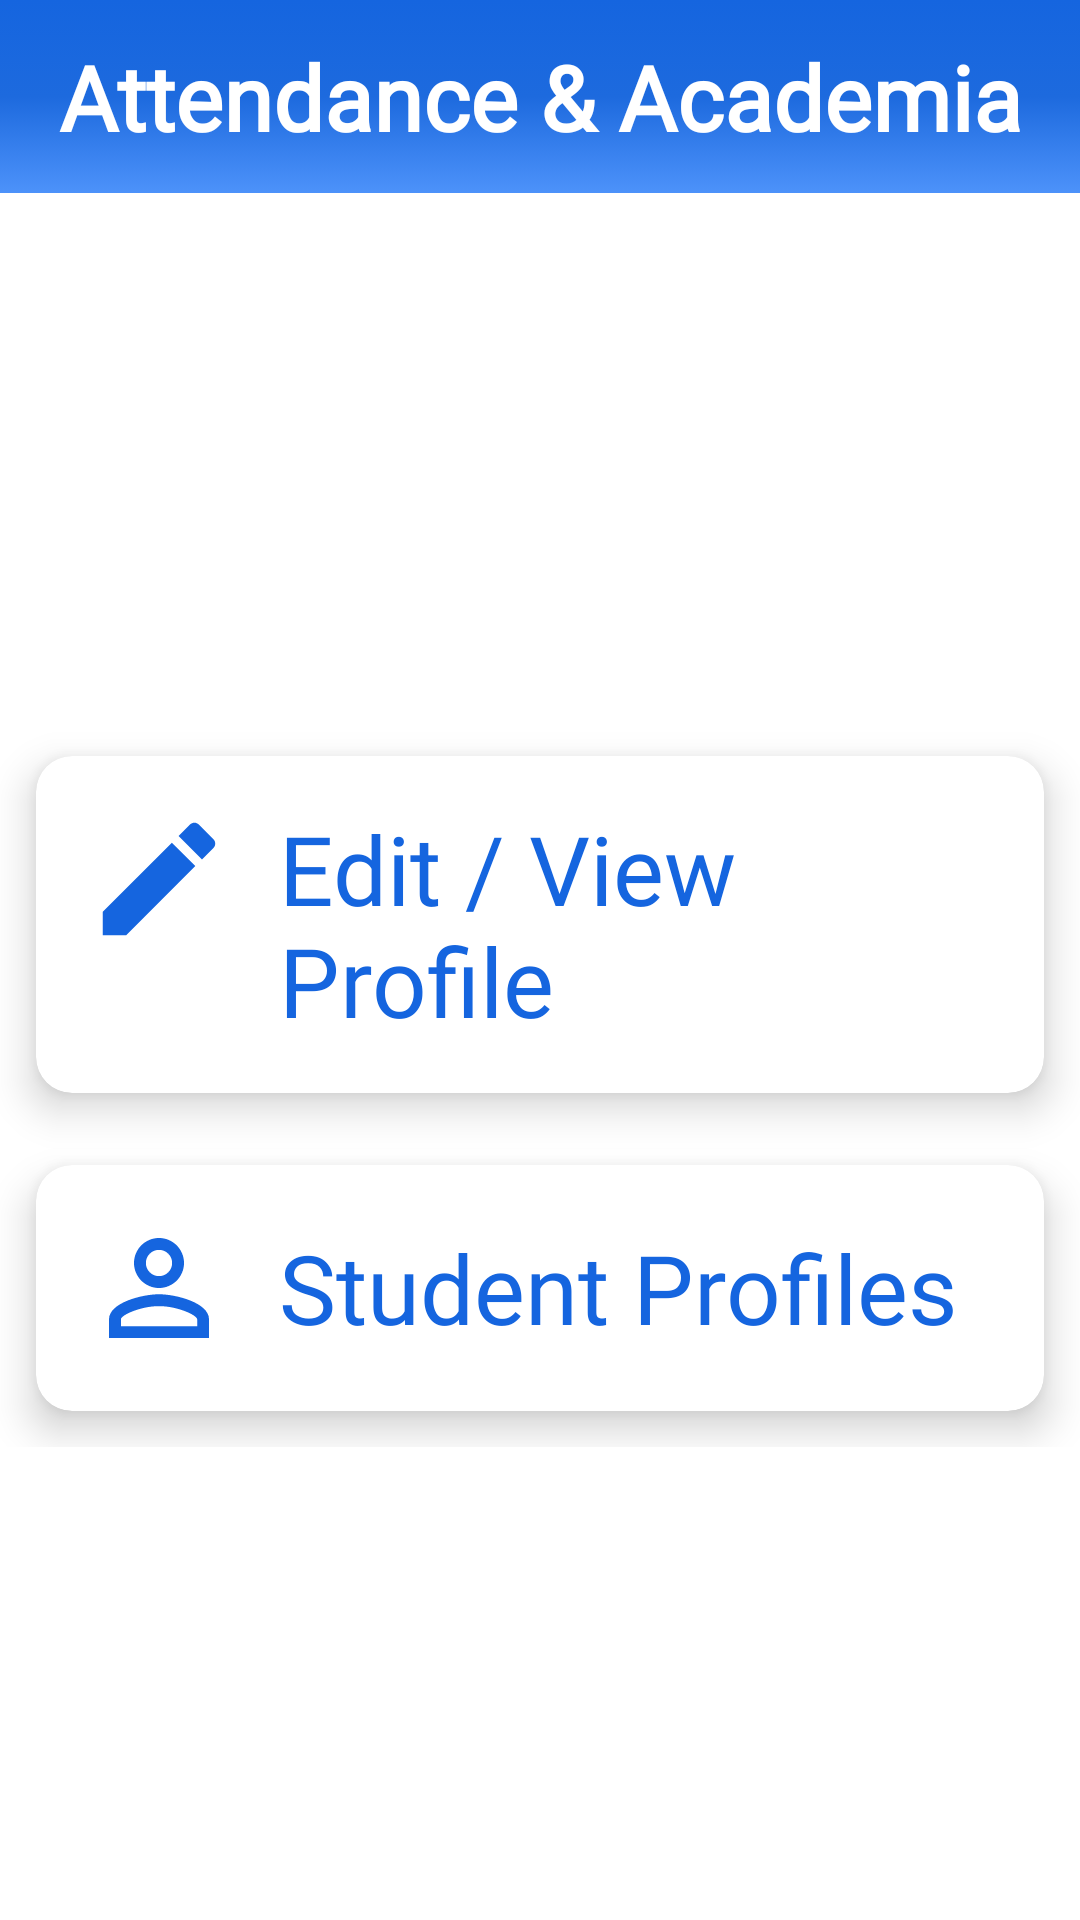

Icon bounding boxes for this 1080 x 1920 phone screenshot, format (x1, y1, x2, y2):
editprofile: (102, 822, 216, 936)
